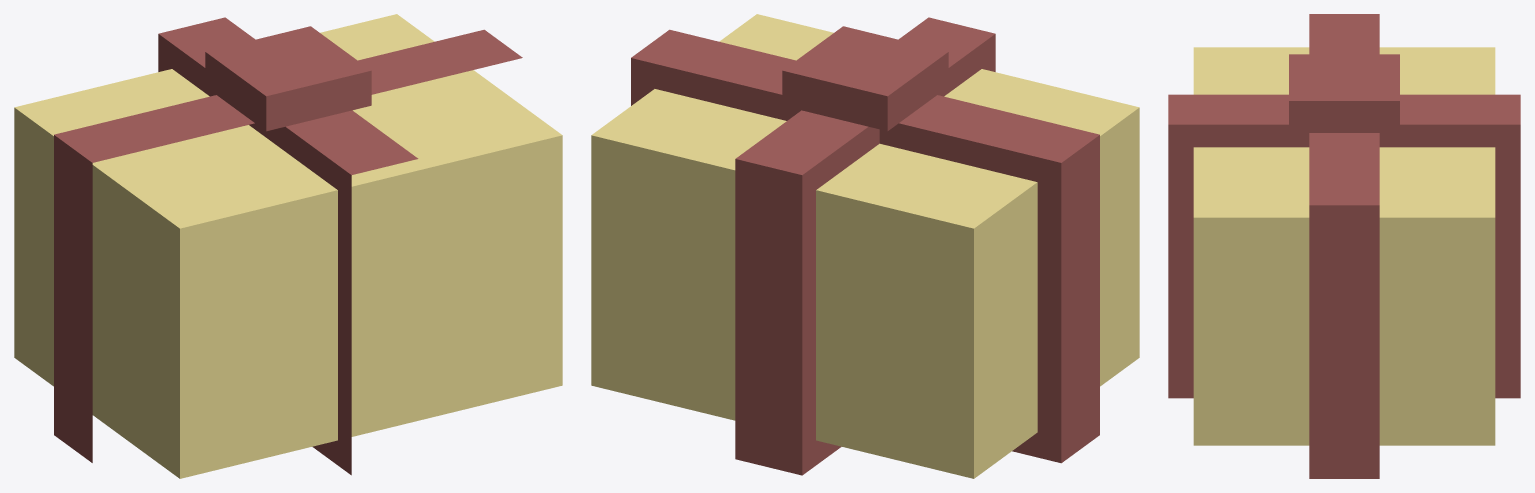
The model's file is parcel_cream.glb.
3 renders of one model, left to right at view 1: azimuth 30°, elevation 25°; view 2: azimuth 150°, elevation 25°; view 3: azimuth 270°, elevation 25°, orthographic. The views are drawn at different scales.
Visible parts, largest first — view 1: Box, TwZ, TwX, Knot; view 2: Box, TwZ, TwX, Knot; view 3: Box, TwZ, TwX, Knot.
Part boxes in pixels (<box>): Box: <box>14,14,562,478</box>; TwZ: <box>54,29,522,462</box>; TwX: <box>158,17,418,475</box>; Knot: <box>205,26,371,131</box>; Box: <box>591,14,1139,478</box>; TwZ: <box>631,29,1099,463</box>; TwX: <box>735,17,995,475</box>; Knot: <box>782,26,948,131</box>; Box: <box>1193,47,1495,445</box>; TwZ: <box>1309,14,1379,478</box>; TwX: <box>1168,94,1520,398</box>; Knot: <box>1289,54,1399,132</box>.
Bounding box in the file's own units: 0.9 × 0.67 × 0.7.
